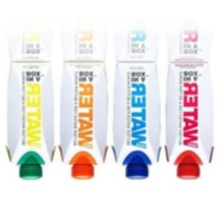carton: (163, 60, 217, 183), (110, 61, 162, 184), (58, 60, 109, 184), (6, 58, 57, 181)
